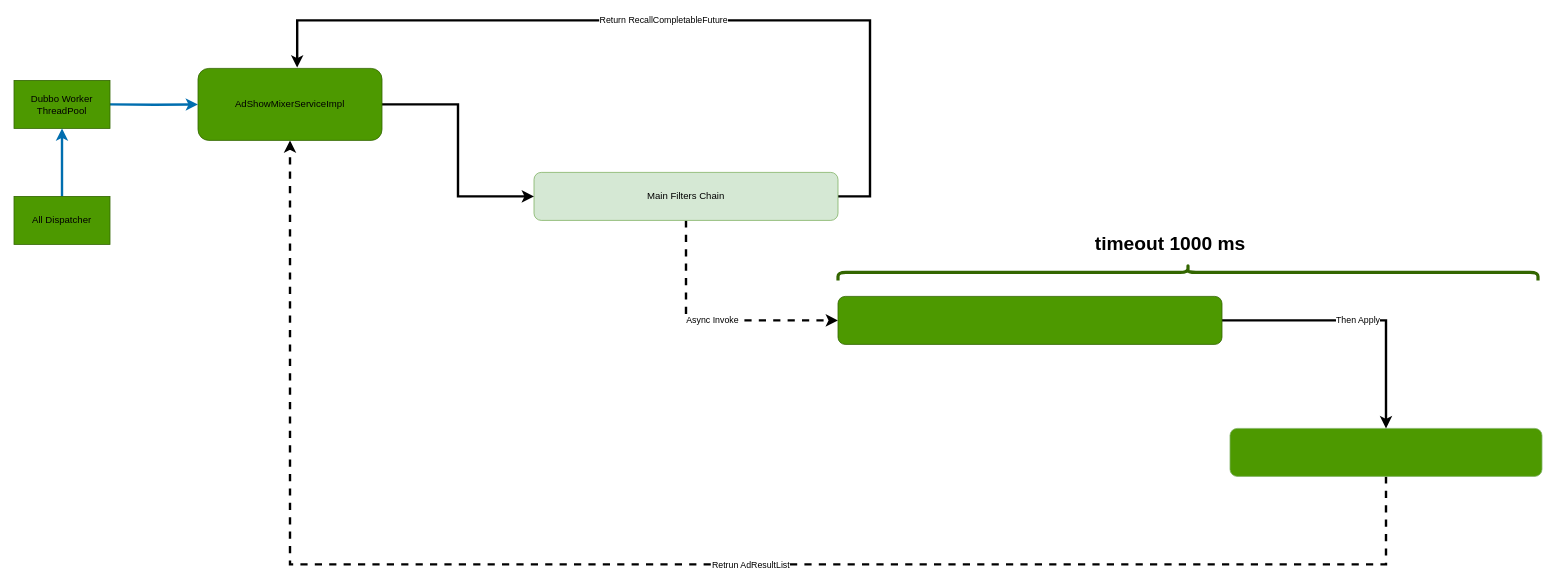
Image size: 1556x586. Some labels were removed from this diagram. Here are the shapes that lost their labels. From the top down, the centre of each, then its label:
the point at 1029,320: 异步远程调用(RTB,Performance DSP,Brand DSP)
the point at 1385,452: Recall Filters Chain
